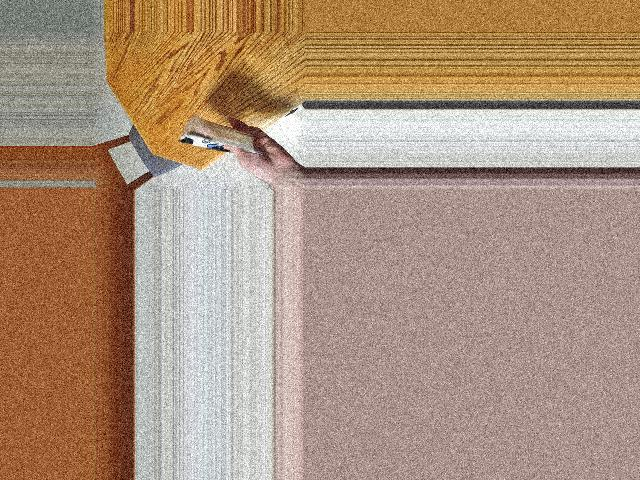cheese: (182, 108, 255, 171)
